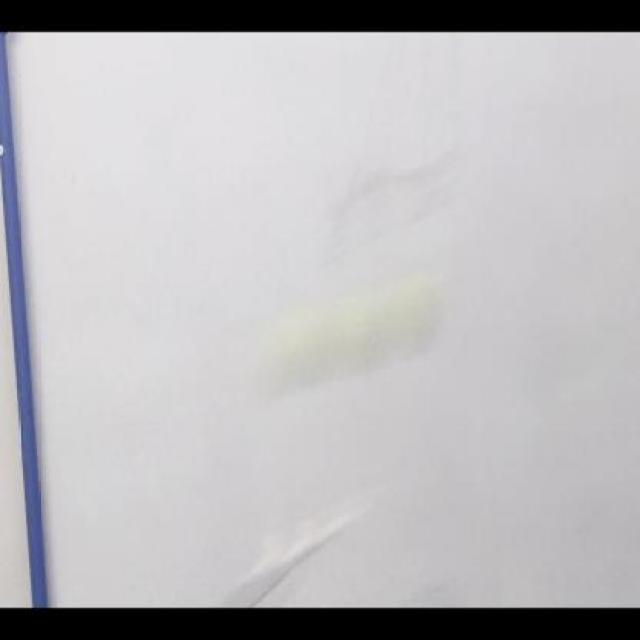baseball: (263, 274, 452, 401)
